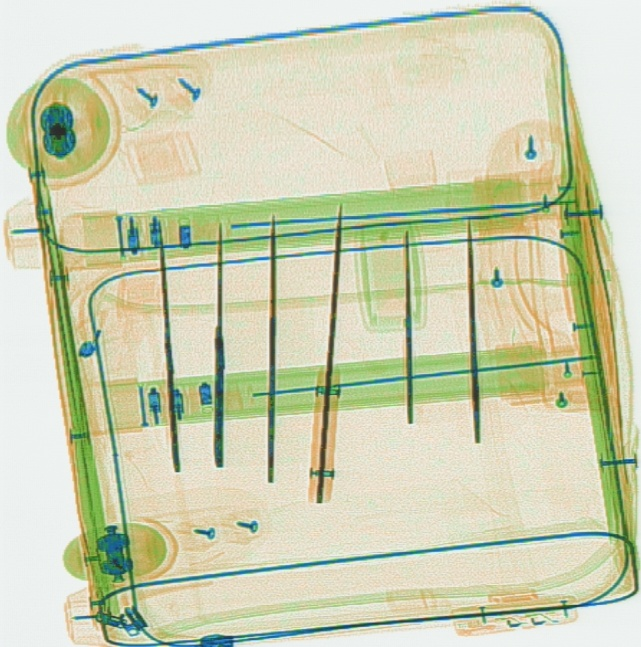knife: (308, 200, 345, 504), (156, 236, 179, 473), (263, 214, 278, 484), (464, 218, 482, 442), (211, 221, 224, 468), (401, 231, 415, 424)
